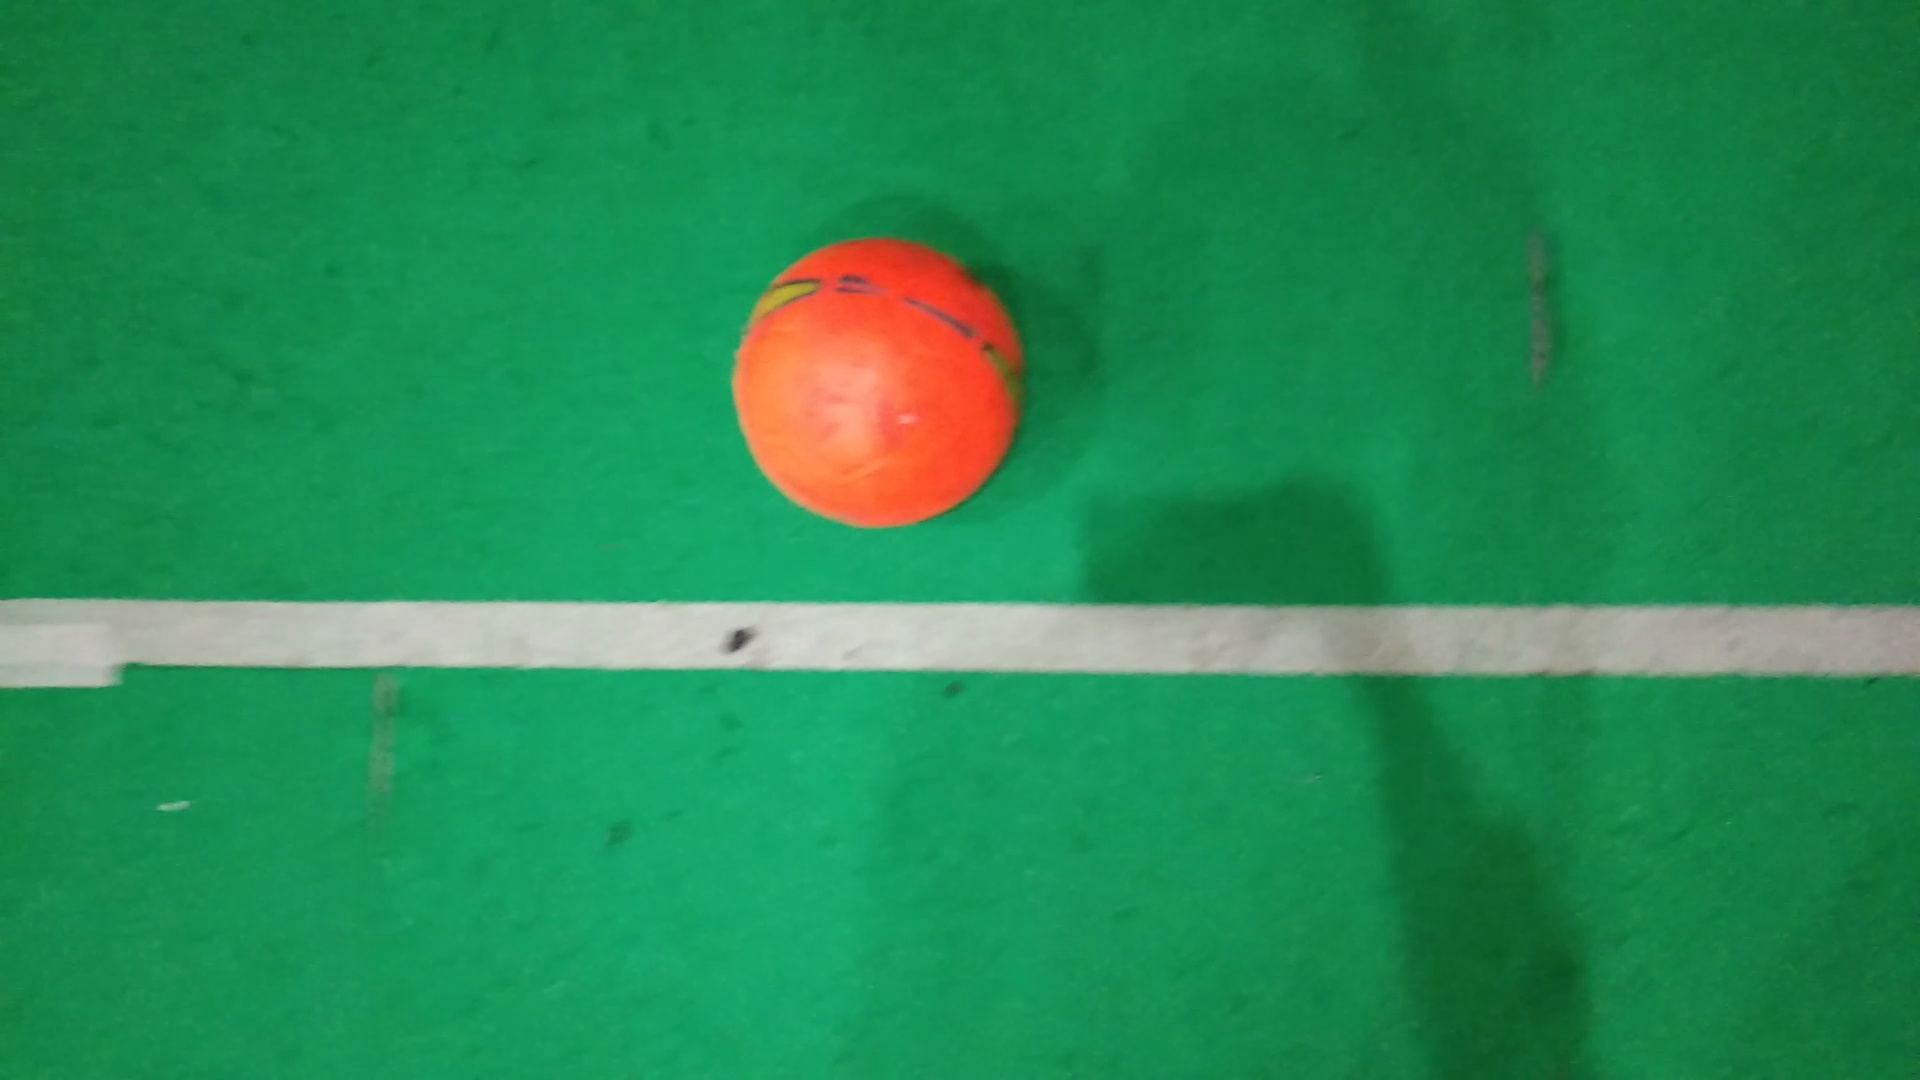bola: (729, 229, 1034, 535)
